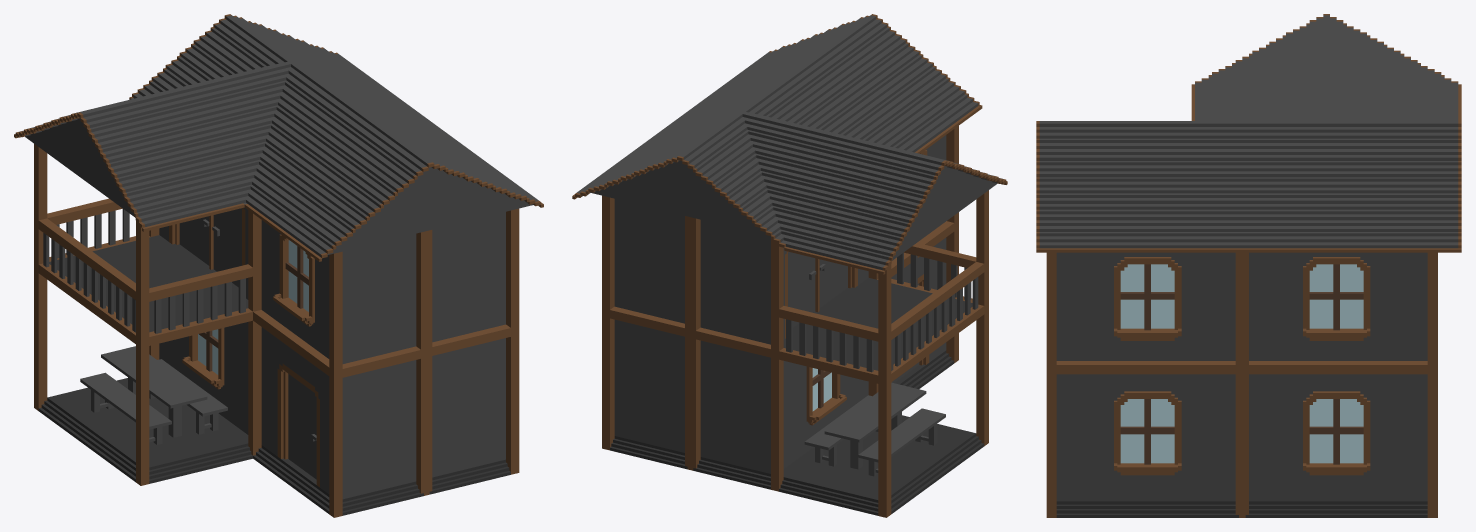
File: Casa 08.obj
3 views of the same model, side by side, from view 1: azimuth 30°, elevation 25°; view 2: azimuth 150°, elevation 25°; view 3: azimuth 270°, elevation 25° (orthographic). The views are drawn at different scales.
Size of the model in its own units: 11.6 by 11.4 by 12.6.
Materials: 1 (1 with a texture image).
